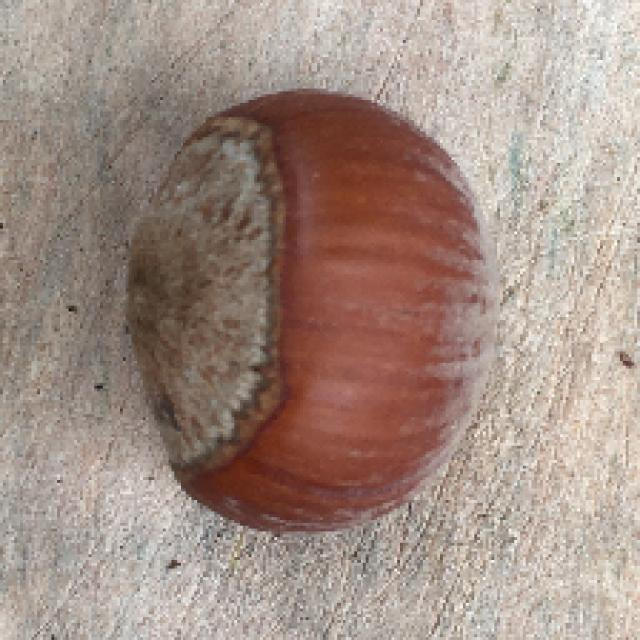qualityHazelnut: (123, 86, 491, 538)
